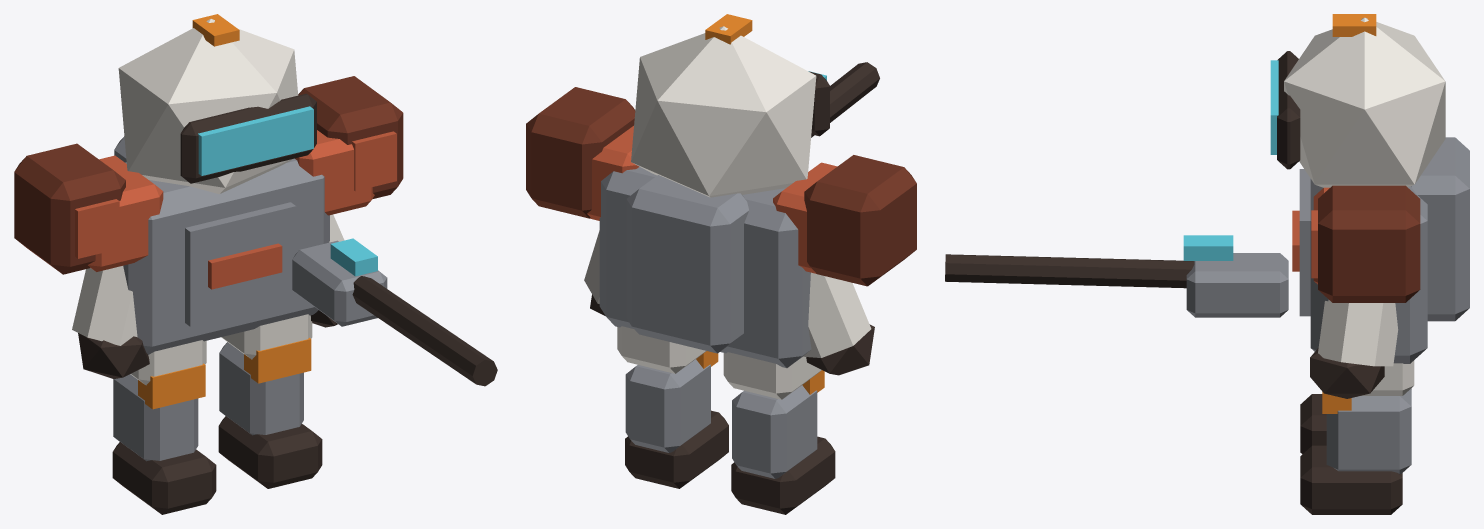
Rendered from u_musketman.glb.
3 renders of one model, left to right at view 1: azimuth 30°, elevation 25°; view 2: azimuth 150°, elevation 25°; view 3: azimuth 270°, elevation 25°, orthographic.
Parts seen in each view (by area): view 1: u_musketman; view 2: u_musketman; view 3: u_musketman.
Part boxes in pixels (x1,y1,x2,y2): u_musketman: (14, 14, 497, 514); u_musketman: (526, 14, 916, 514); u_musketman: (945, 14, 1469, 514).
Bounding box in the file's own units: 0.2575 × 0.32 × 0.3304.
